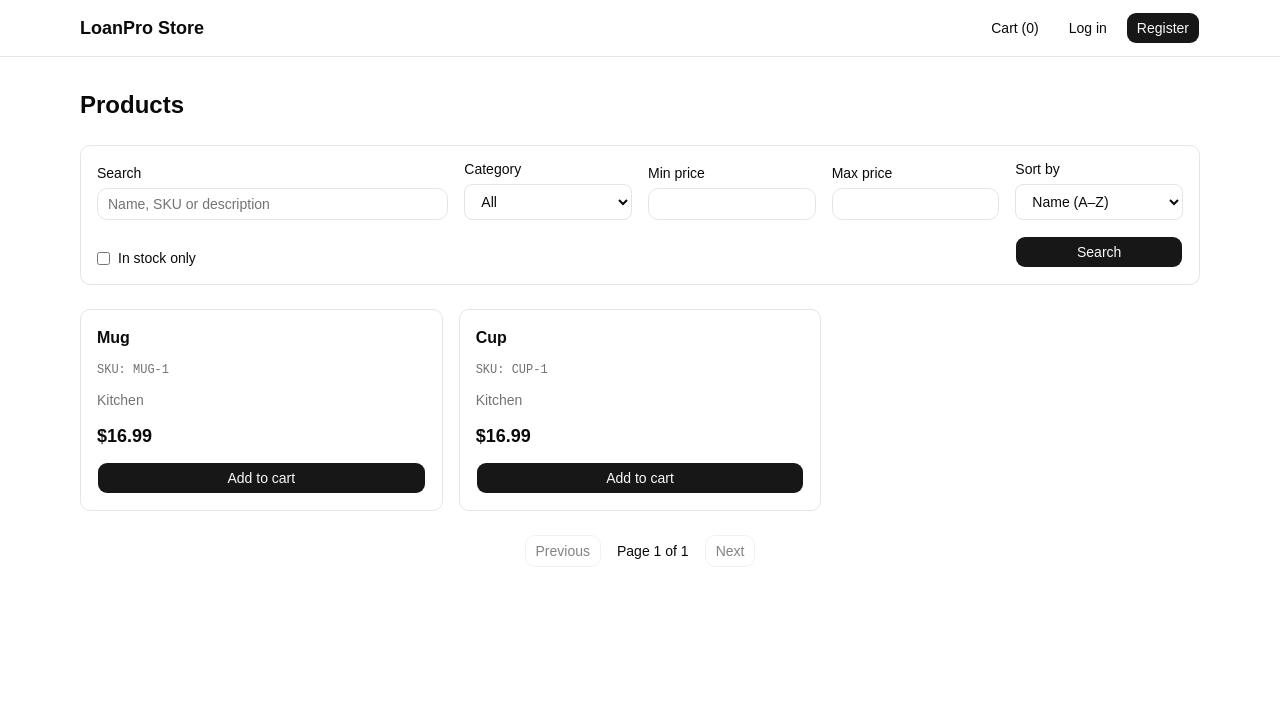
it: cart › shows how many units are in stock next to each cart line
This screenshot has width=1280, height=720.
Step 1. Click the button "Add to cart" below "MUG-1" → x=261, y=478, box [97,462,426,494]
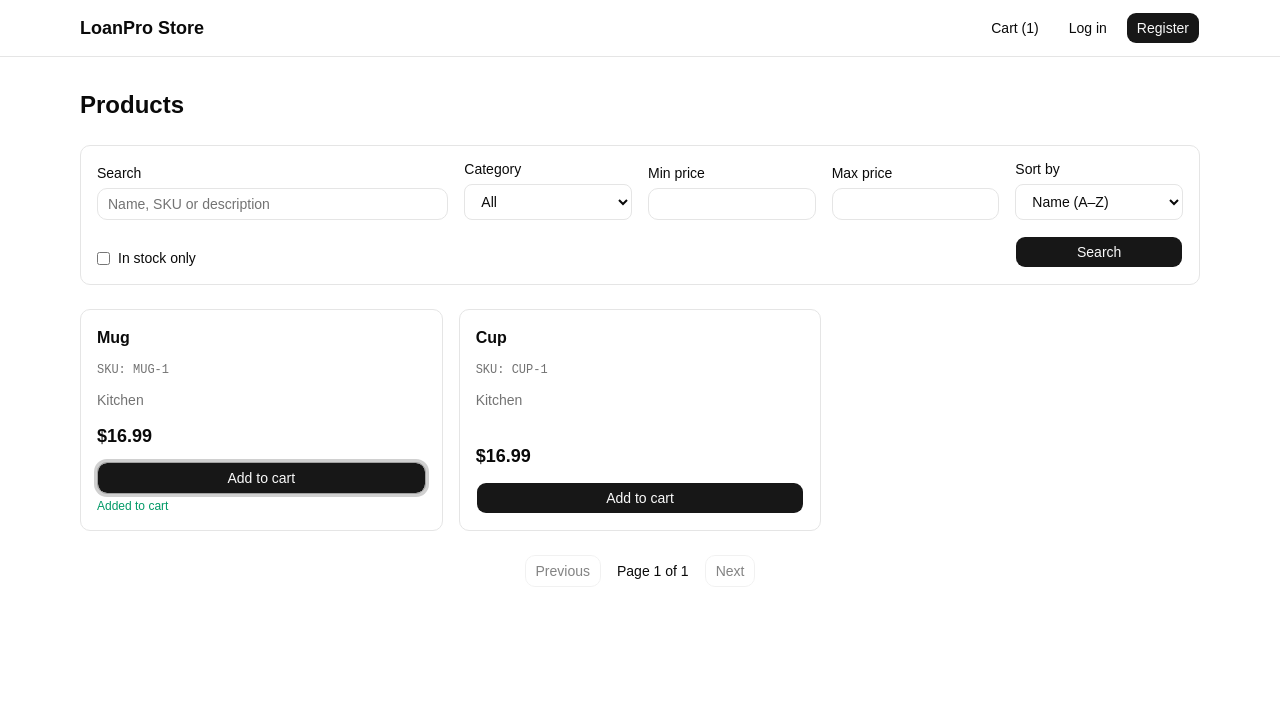
Step 2. Click the button "Add to cart" below "CUP-1" → x=640, y=498, box [476,482,804,514]
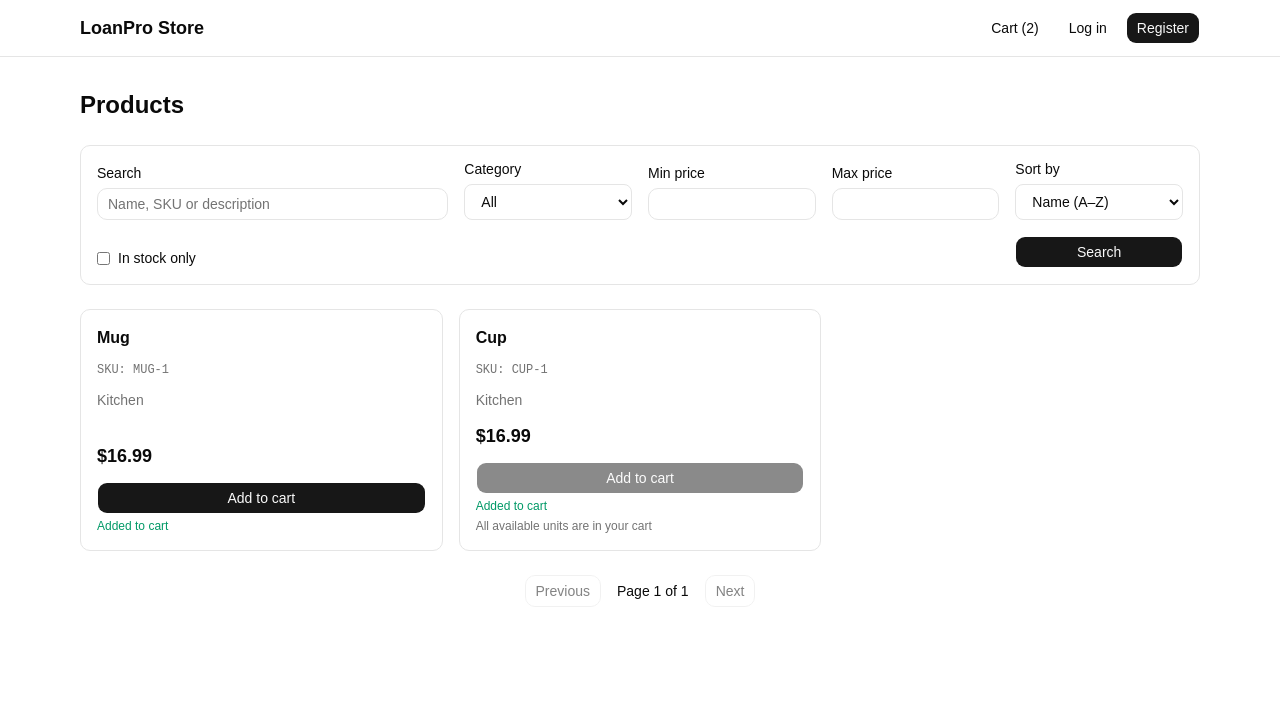
Step 3. Click the link "Cart (2)" → x=1015, y=28, box [991,20,1039,36]
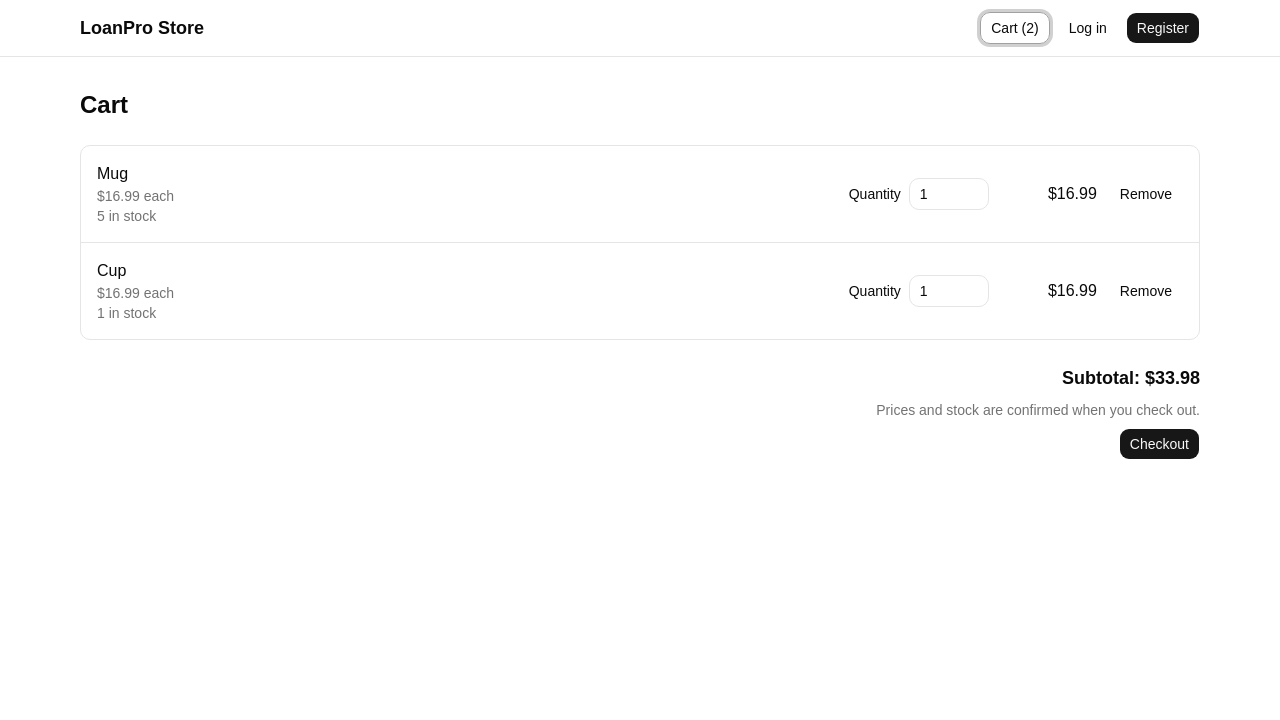
Expected: the text "5 in stock" is shown, [97,208,156,224]
Expected: the text "1 in stock" is shown, [97,305,156,321]
